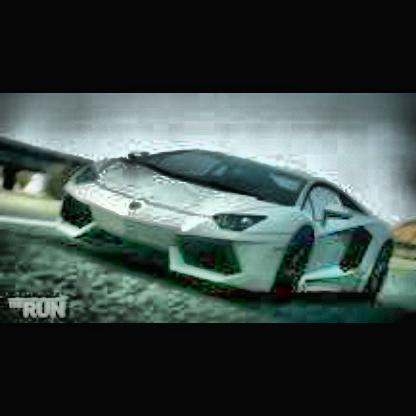Lamborghini Aventador Coupe 2012: (57, 145, 403, 307)
